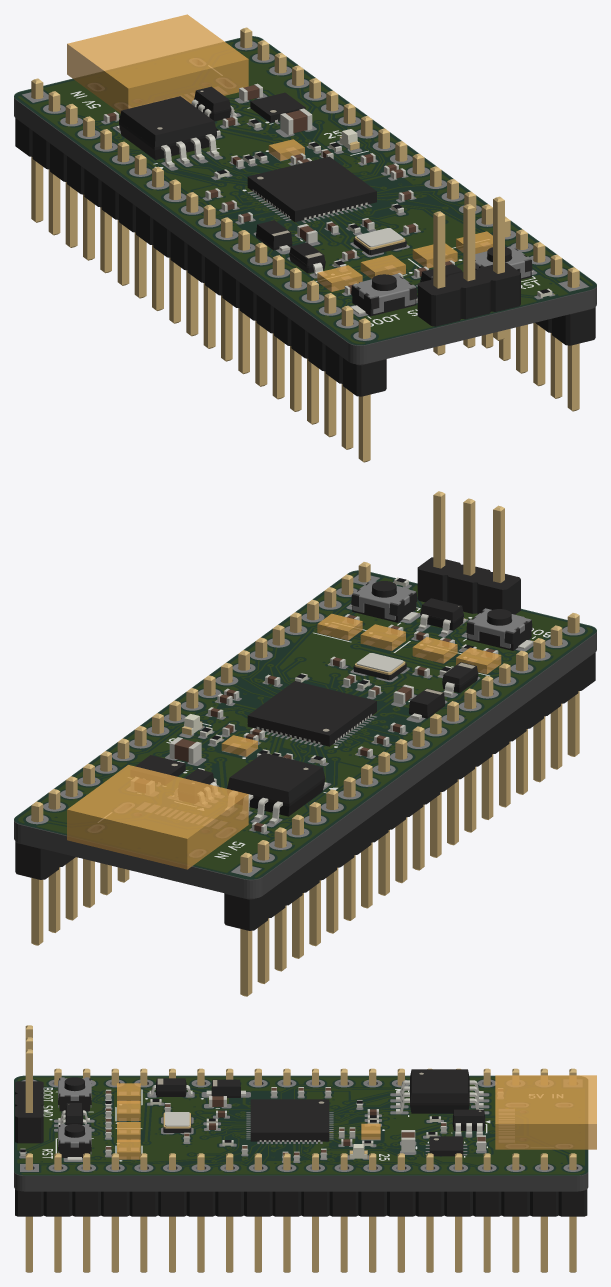
The model's file is board.glb.
3 views of the same model, one above another, from view 1: azimuth 30°, elevation 25°; view 2: azimuth 150°, elevation 25°; view 3: azimuth 270°, elevation 25° (orthographic). The views are drawn at different scales.
Parts seen in each view (by area): view 1: easy2350_soldermask, PinHeader_1x20_P2.54mm_Vertical (×2), easy2350_PCB, easy2350_copper, J1, PinHeader_1x03_P2.54mm_Vertical, easy2350_pad, QFN-56-1EP_7x7mm_P0.4mm_EP5.6x5.6mm, SOIC-8_5.3x5.3mm_P1.27mm, SW_SPST_TS-1088-xR020 (×2), Crystal_SMD_3225-4Pin_3.2x2.5mm, SOT-23-6 (+8 smaller); view 2: easy2350_soldermask, PinHeader_1x20_P2.54mm_Vertical (×2), easy2350_PCB, easy2350_copper, J1, easy2350_pad, PinHeader_1x03_P2.54mm_Vertical, QFN-56-1EP_7x7mm_P0.4mm_EP5.6x5.6mm, SOIC-8_5.3x5.3mm_P1.27mm, SW_SPST_TS-1088-xR020 (×2), SOT-23-5, SOT-23-6 (+9 smaller); view 3: easy2350_soldermask, PinHeader_1x20_P2.54mm_Vertical (×2), easy2350_PCB, easy2350_copper, J1, easy2350_pad, QFN-56-1EP_7x7mm_P0.4mm_EP5.6x5.6mm, SOIC-8_5.3x5.3mm_P1.27mm, PinHeader_1x03_P2.54mm_Vertical, SW_SPST_TS-1088-xR020 (×2), SOT-23-6, DFN-8-1EP_3x3mm_P0.65mm_EP1.5x2.25mm (+11 smaller).
Part boxes in pixels (bbox=[...]): easy2350_soldermask: bbox=[14, 36, 596, 345]; PinHeader_1x20_P2.54mm_Vertical (×2): bbox=[15, 27, 595, 462]; easy2350_PCB: bbox=[14, 37, 596, 364]; easy2350_copper: bbox=[19, 38, 592, 343]; J1: bbox=[67, 14, 248, 113]; PinHeader_1x03_P2.54mm_Vertical: bbox=[417, 196, 520, 355]; easy2350_pad: bbox=[22, 41, 588, 340]; QFN-56-1EP_7x7mm_P0.4mm_EP5.6x5.6mm: bbox=[247, 156, 376, 222]; SOIC-8_5.3x5.3mm_P1.27mm: bbox=[116, 96, 219, 167]; SW_SPST_TS-1088-xR020 (×2): bbox=[351, 245, 533, 316]; Crystal_SMD_3225-4Pin_3.2x2.5mm: bbox=[353, 228, 406, 255]; SOT-23-6: bbox=[191, 86, 237, 121]; easy2350_soldermask: bbox=[14, 570, 596, 879]; PinHeader_1x20_P2.54mm_Vertical (×2): bbox=[15, 562, 595, 996]; easy2350_PCB: bbox=[14, 571, 596, 898]; easy2350_copper: bbox=[18, 573, 592, 877]; J1: bbox=[67, 765, 248, 869]; easy2350_pad: bbox=[26, 575, 585, 876]; PinHeader_1x03_P2.54mm_Vertical: bbox=[417, 491, 520, 614]; QFN-56-1EP_7x7mm_P0.4mm_EP5.6x5.6mm: bbox=[247, 681, 376, 746]; SOIC-8_5.3x5.3mm_P1.27mm: bbox=[225, 752, 327, 824]; SW_SPST_TS-1088-xR020 (×2): bbox=[350, 580, 533, 650]; SOT-23-5: bbox=[418, 598, 465, 634]; SOT-23-6: bbox=[172, 769, 219, 805]; easy2350_soldermask: bbox=[14, 1075, 588, 1175]; PinHeader_1x20_P2.54mm_Vertical (×2): bbox=[15, 1068, 587, 1272]; easy2350_PCB: bbox=[14, 1077, 588, 1191]; easy2350_copper: bbox=[18, 1078, 584, 1173]; J1: bbox=[495, 1075, 596, 1149]; easy2350_pad: bbox=[19, 1079, 582, 1171]; QFN-56-1EP_7x7mm_P0.4mm_EP5.6x5.6mm: bbox=[250, 1099, 329, 1141]; SOIC-8_5.3x5.3mm_P1.27mm: bbox=[396, 1069, 483, 1113]; PinHeader_1x03_P2.54mm_Vertical: bbox=[15, 1025, 43, 1143]; SW_SPST_TS-1088-xR020 (×2): bbox=[58, 1077, 91, 1160]; SOT-23-6: bbox=[452, 1109, 485, 1135]; DFN-8-1EP_3x3mm_P0.65mm_EP1.5x2.25mm: bbox=[429, 1136, 463, 1156].
Size of the model in its own units: 0.021 by 0.0188 by 0.0518.
